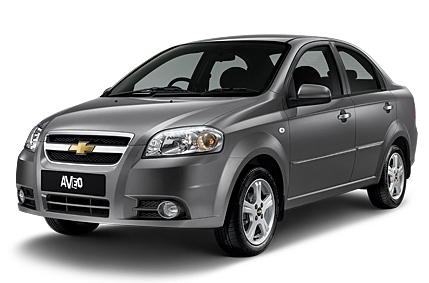sedan: (15, 32, 419, 256)
